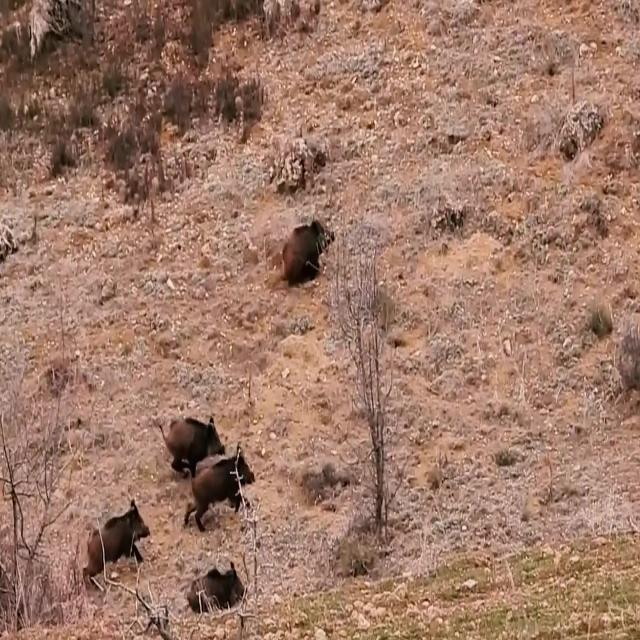pig: (72, 492, 157, 586), (274, 190, 344, 289), (175, 544, 254, 626), (142, 397, 228, 471), (183, 442, 252, 524)
